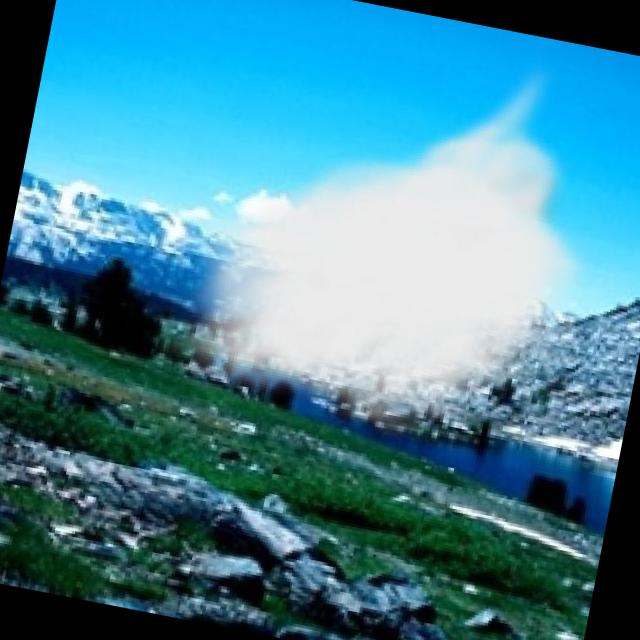Smoke: (149, 0, 635, 471)
